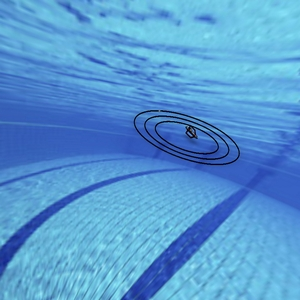circle: (125, 97, 247, 176)
submarine: (178, 116, 199, 144)
